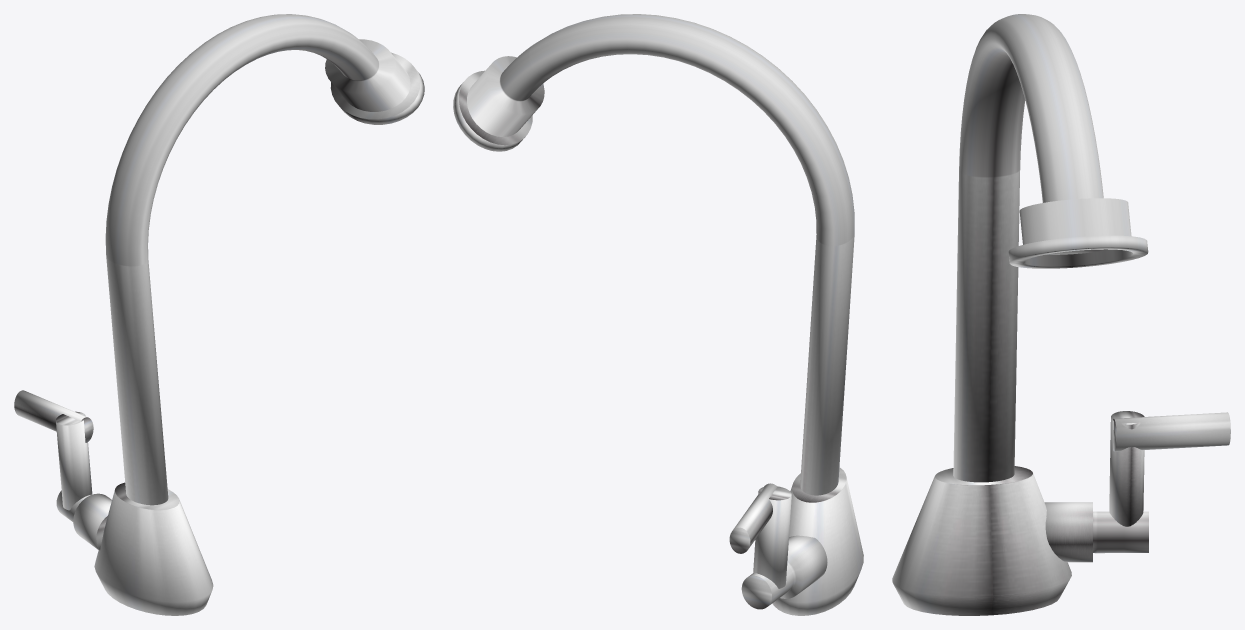
File: canilla.glb
The picture shows the model from 3 angles, left to right: view 1: azimuth 30°, elevation 25°; view 2: azimuth 150°, elevation 25°; view 3: azimuth 270°, elevation 25°; orthographic projection. The views are drawn at different scales.
Visible parts, largest first — view 1: Object_4; view 2: Object_4; view 3: Object_4.
Part boxes in pixels (left/top/right/bottom): Object_4: left=14, top=14, right=424, bottom=615; Object_4: left=453, top=14, right=863, bottom=615; Object_4: left=892, top=14, right=1230, bottom=615.
Bounding box in the file's own units: 0.1997 × 0.3 × 0.1438.
1 material, 1 textured.
